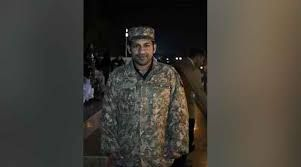uniform: (106, 61, 188, 162)
